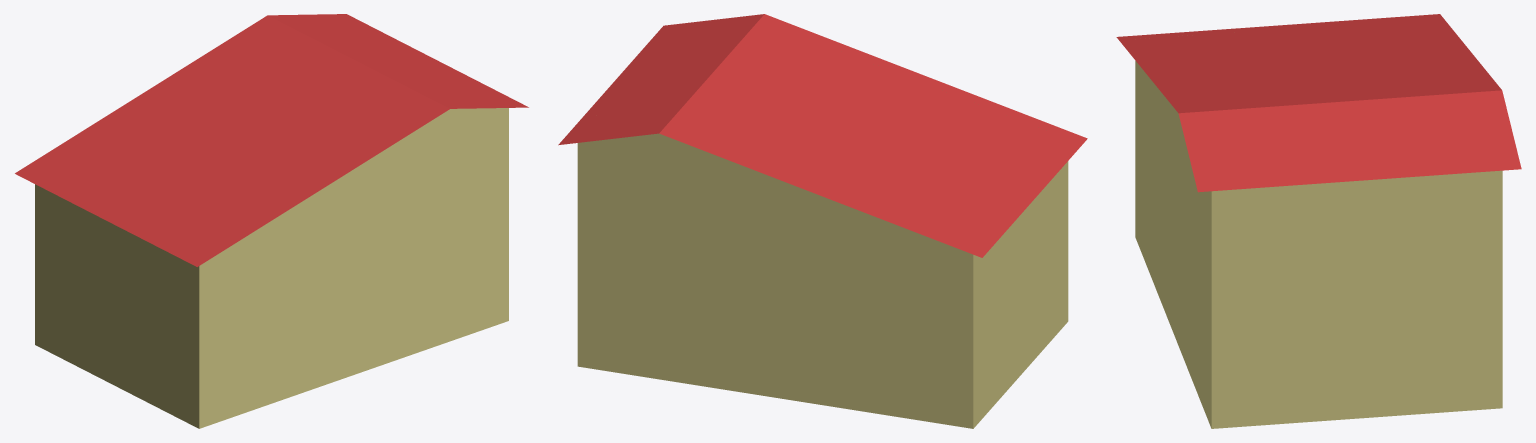
3 views of the same model, side by side, from view 1: azimuth 30°, elevation 25°; view 2: azimuth 150°, elevation 25°; view 3: azimuth 270°, elevation 25° (orthographic). The views are drawn at different scales.
Size of the model in its own units: 16.24 by 12.19 by 9.12.
